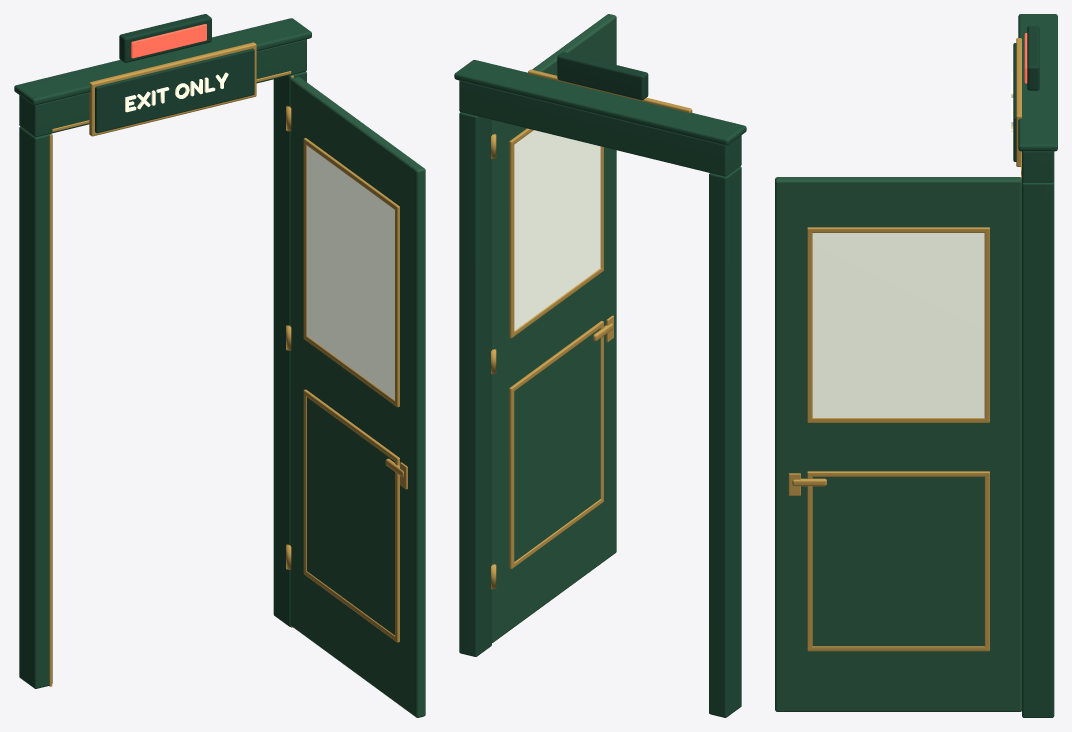
File: exit_door.glb
3 renders of one model, left to right at view 1: azimuth 30°, elevation 25°; view 2: azimuth 150°, elevation 25°; view 3: azimuth 270°, elevation 25°, orthographic. The views are drawn at different scales.
Parts seen in each view (by area): view 1: LeafSlab, Post-1, GlassIn1, PanelIn1, Post1, Sign, HeaderCap, Header, PostBrass-1, SignBrass, LampHousing, ExitLamp (+7 smaller); view 2: LeafSlab, Post-1, Post1, PanelIn1, GlassIn1, Header, HeaderCap, LampHousing, GlassBr13, PanelBr13, PanelBr11, PanelBr12 (+4 smaller); view 3: LeafSlab, GlassIn-1, PanelIn-1, Post1, HeaderCap, GlassBr-12, GlassBr-13, GlassBr-11, PanelBr-11, PanelBr-13, Header, PanelBr-10 (+5 smaller).
Boxes of the visible parts, x1,y1,x2,y2 form: LeafSlab: (290, 76, 425, 717); Post-1: (19, 126, 52, 688); GlassIn1: (307, 146, 394, 399); PanelIn1: (307, 397, 394, 635); Post1: (273, 71, 306, 626); Sign: (95, 48, 254, 133); HeaderCap: (14, 18, 311, 105); Header: (19, 39, 306, 137); PostBrass-1: (49, 134, 52, 686); SignBrass: (89, 42, 256, 136); LampHousing: (119, 14, 211, 62); ExitLamp: (131, 24, 206, 58); LeafSlab: (492, 14, 616, 642); Post-1: (709, 166, 741, 717); Post1: (459, 112, 491, 656); PanelIn1: (514, 328, 600, 561); GlassIn1: (514, 130, 600, 330); Header: (459, 80, 741, 176); HeaderCap: (454, 60, 746, 145); LampHousing: (557, 52, 648, 100); GlassBr13: (509, 144, 514, 334); PanelBr13: (509, 386, 514, 565); PanelBr11: (509, 321, 603, 392); PanelBr12: (600, 321, 603, 502); LeafSlab: (775, 177, 1021, 711); GlassIn-1: (812, 233, 984, 417); PanelIn-1: (812, 477, 984, 646); Post1: (1022, 181, 1054, 717); HeaderCap: (1018, 14, 1057, 151); GlassBr-12: (807, 228, 812, 422); GlassBr-13: (984, 229, 989, 422); GlassBr-11: (807, 227, 989, 232); PanelBr-11: (808, 471, 989, 476); PanelBr-13: (984, 471, 989, 651); Header: (1022, 151, 1054, 182); PanelBr-10: (811, 646, 989, 651).
Size of the model in its own units: 1.27 by 2.72 by 1.14.
